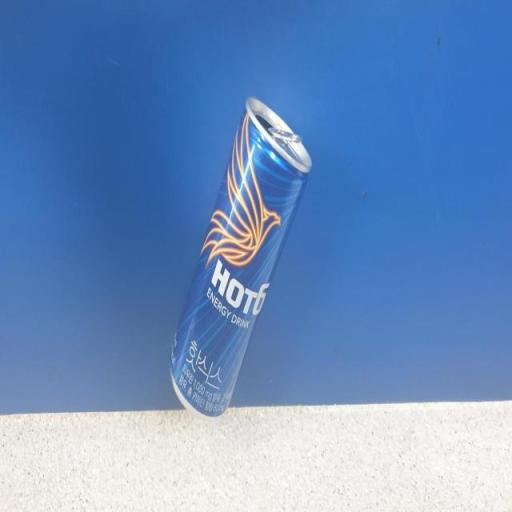metal: (161, 82, 322, 445)
